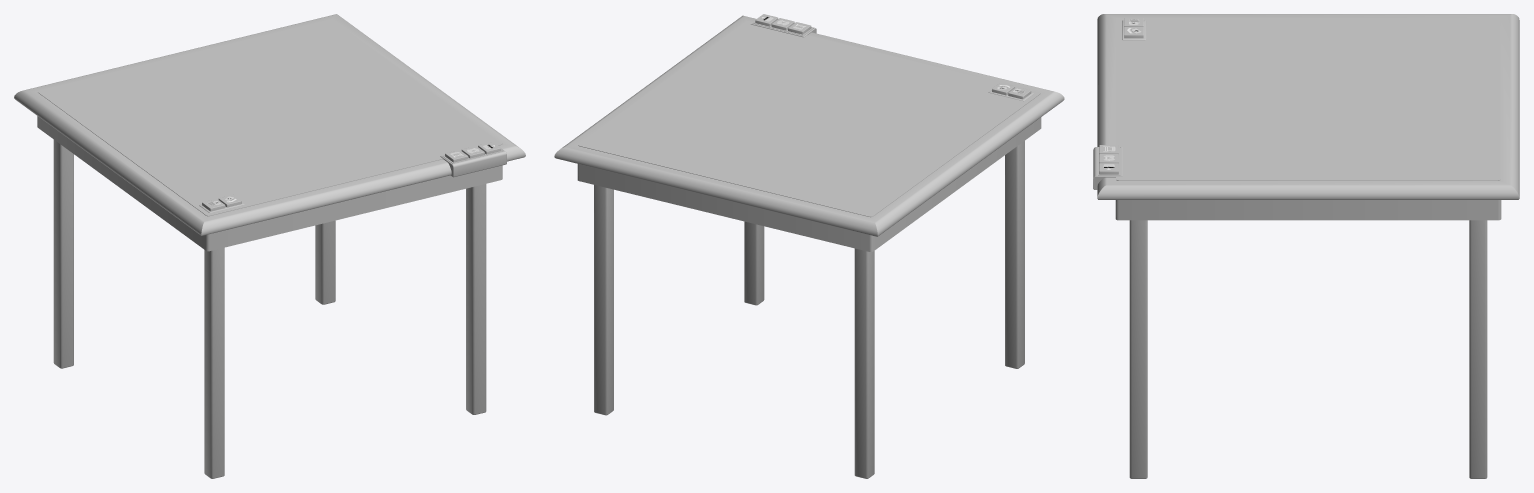
Rendered from CardTable.fbx.
3 renders of one model, left to right at view 1: azimuth 30°, elevation 25°; view 2: azimuth 150°, elevation 25°; view 3: azimuth 270°, elevation 25°, orthographic. The views are drawn at different scales.
Parts seen in each view (by area): view 1: PlayingSurface, TableLegs, TableTop, TableBase, WoodButtonHolder; view 2: PlayingSurface, TableLegs, TableTop, TableBase; view 3: PlayingSurface, TableTop, TableLegs, TableBase.
Boxes of the visible parts, <box> form: PlayingSurface: <box>38,19,501,216</box>; TableLegs: <box>53,139,486,478</box>; TableTop: <box>14,14,525,235</box>; TableBase: <box>37,116,502,251</box>; WoodButtonHolder: <box>440,148,506,177</box>; PlayingSurface: <box>578,21,1040,217</box>; TableLegs: <box>594,141,1024,478</box>; TableTop: <box>554,15,1064,236</box>; TableBase: <box>577,117,1041,251</box>; PlayingSurface: <box>1116,18,1500,180</box>; TableTop: <box>1097,14,1519,199</box>; TableLegs: <box>1129,220,1487,478</box>; TableBase: <box>1115,200,1501,220</box>.
Size of the model in its own units: 123 by 98.96 by 124.
